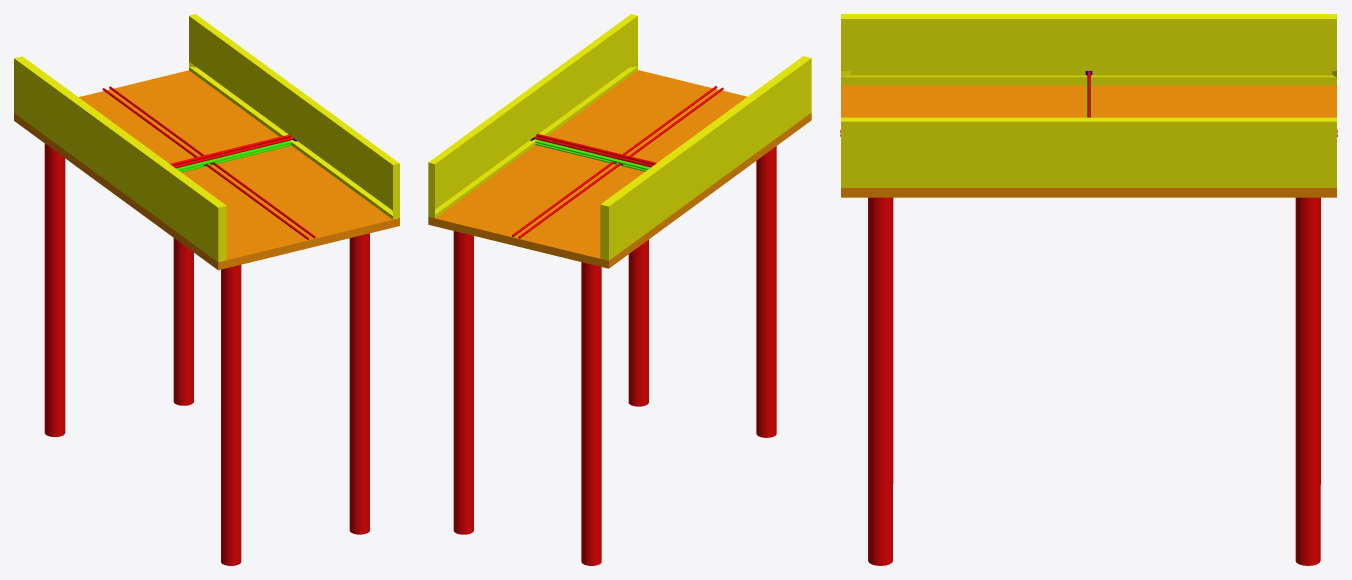
File: muur lazer ding.fbx
3 renders of one model, left to right at view 1: azimuth 30°, elevation 25°; view 2: azimuth 150°, elevation 25°; view 3: azimuth 270°, elevation 25°, orthographic. The views are drawn at different scales.
Visible parts, largest first — view 1: Cube.006, Cylinder.002, Cube.002, Cube.001, Cube.004; view 2: Cube.006, Cylinder.002, Cube.001, Cube.002, Cube.004; view 3: Cube.006, Cylinder.002.
Boxes of the visible parts, left/top/right/bottom form: Cube.006: left=14, top=14, right=399, bottom=270; Cylinder.002: left=44, top=143, right=369, bottom=565; Cube.002: left=102, top=88, right=309, bottom=239; Cube.001: left=109, top=86, right=315, bottom=238; Cube.004: left=176, top=140, right=291, bottom=172; Cube.006: left=428, top=14, right=811, bottom=268; Cylinder.002: left=453, top=146, right=776, bottom=565; Cube.001: left=512, top=86, right=717, bottom=236; Cube.002: left=518, top=87, right=723, bottom=238; Cube.004: left=535, top=140, right=650, bottom=171; Cube.006: left=841, top=14, right=1336, bottom=197; Cylinder.002: left=868, top=197, right=1320, bottom=565.
Bounding box in the file's own units: 18.26 × 35.8 × 35.6.
